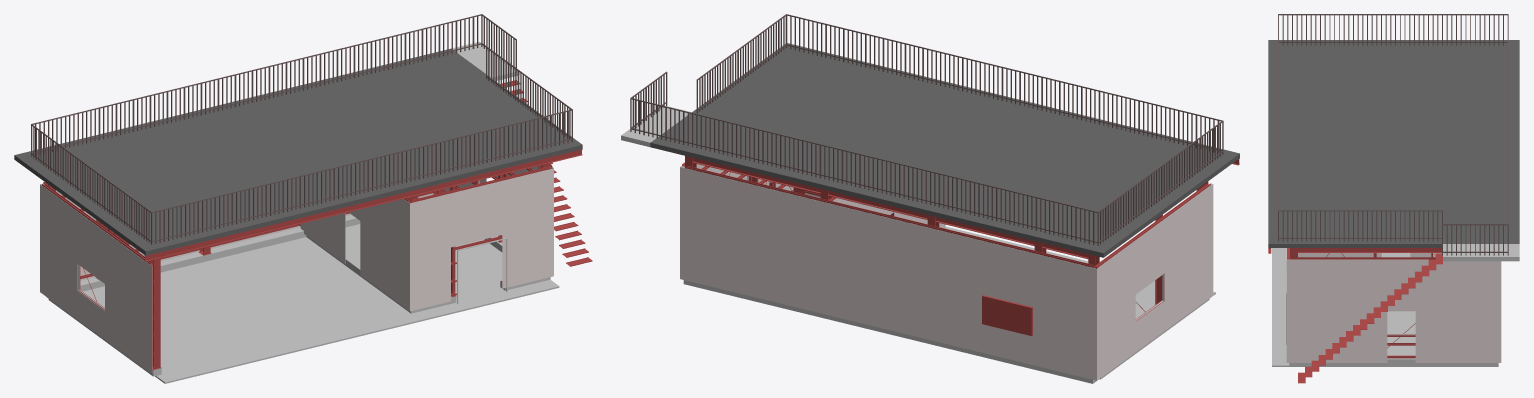
Rendered from warehouse_centered_phong.fbx.
The picture shows the model from 3 angles, left to right: view 1: azimuth 30°, elevation 25°; view 2: azimuth 150°, elevation 25°; view 3: azimuth 270°, elevation 25°; orthographic projection. The views are drawn at different scales.
Parts seen in each view (by area): view 1: オブジェクト_402, オブジェクト_608, オブジェクト_609, オブジェクト_403, オブジェクト_614, オブジェクト_322, オブジェクト_323, オブジェクト_321, オブジェクト_319, オブジェクト_324, オブジェクト_325, オブジェクト_318 (+30 smaller); view 2: オブジェクト_402, オブジェクト_416, オブジェクト_357, オブジェクト_363, オブジェクト_355, オブジェクト_365, オブジェクト_349, オブジェクト_366, オブジェクト_350, オブジェクト_356, オブジェクト_364, オブジェクト_358 (+45 smaller); view 3: オブジェクト_402, オブジェクト_609, オブジェクト_608, オブジェクト_338, オブジェクト_340, オブジェクト_328, オブジェクト_330, オブジェクト_332, オブジェクト_336, オブジェクト_331, オブジェクト_329, オブジェクト_339 (+15 smaller).
Part boxes in pixels (bbox=[...]): オブジェクト_402: bbox=[14, 48, 582, 255]; オブジェクト_608: bbox=[47, 224, 504, 376]; オブジェクト_609: bbox=[156, 279, 559, 383]; オブジェクト_403: bbox=[144, 149, 582, 261]; オブジェクト_614: bbox=[80, 214, 360, 291]; オブジェクト_322: bbox=[502, 174, 528, 234]; オブジェクト_323: bbox=[476, 181, 502, 240]; オブジェクト_321: bbox=[502, 228, 528, 288]; オブジェクト_319: bbox=[528, 168, 553, 228]; オブジェクト_324: bbox=[451, 187, 476, 247]; オブジェクト_325: bbox=[425, 193, 450, 253]; オブジェクト_318: bbox=[425, 247, 450, 307]; オブジェクト_402: bbox=[650, 43, 1239, 257]; オブジェクト_416: bbox=[692, 158, 1088, 259]; オブジェクト_357: bbox=[802, 197, 829, 259]; オブジェクト_363: bbox=[882, 216, 909, 278]; オブジェクト_355: bbox=[775, 190, 802, 252]; オブジェクト_365: bbox=[909, 223, 936, 285]; オブジェクト_349: bbox=[695, 171, 722, 233]; オブジェクト_366: bbox=[909, 279, 936, 341]; オブジェクト_350: bbox=[695, 227, 722, 289]; オブジェクト_356: bbox=[775, 246, 802, 308]; オブジェクト_364: bbox=[882, 272, 909, 334]; オブジェクト_358: bbox=[802, 253, 829, 315]; オブジェクト_402: bbox=[1268, 40, 1519, 247]; オブジェクト_609: bbox=[1272, 248, 1289, 366]; オブジェクト_608: bbox=[1289, 253, 1498, 366]; オブジェクト_338: bbox=[1330, 259, 1358, 311]; オブジェクト_340: bbox=[1302, 259, 1330, 311]; オブジェクト_328: bbox=[1472, 311, 1500, 362]; オブジェクト_330: bbox=[1444, 311, 1472, 362]; オブジェクト_332: bbox=[1415, 311, 1443, 362]; オブジェクト_336: bbox=[1358, 259, 1387, 311]; オブジェクト_331: bbox=[1444, 261, 1472, 311]; オブジェクト_329: bbox=[1472, 261, 1500, 311]; オブジェクト_339: bbox=[1302, 311, 1330, 362].
Size of the model in its own units: 16420 by 5795 by 8039.
